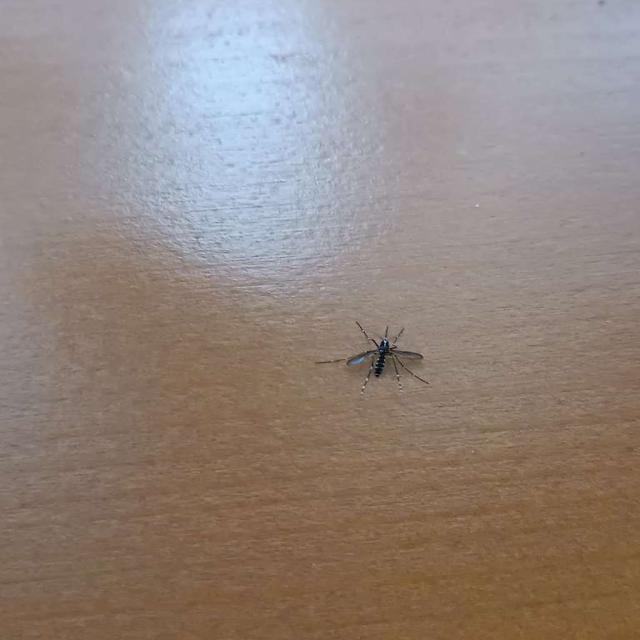albopictus: (312, 314, 433, 398)
